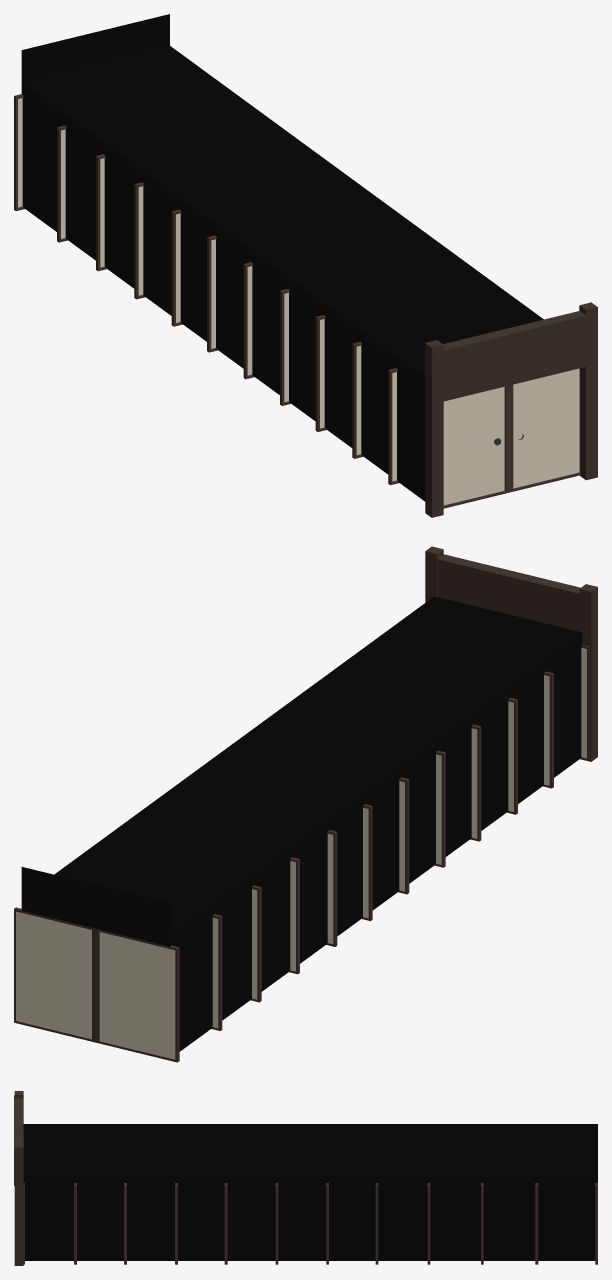
The model's file is room_transition_2.glb.
3 renders of one model, top to bottom at view 1: azimuth 30°, elevation 25°; view 2: azimuth 150°, elevation 25°; view 3: azimuth 270°, elevation 25°, orthographic. The views are drawn at different scales.
Parts seen in each view (by area): view 1: TransitionInner.001, AnimDoors1.001, Cube.006, Cube.004, Cube.005, AnimDoors6.001, AnimDoors4.001, AnimDoors3.001, AnimDoors8.001, AnimDoors9.001, AnimDoors12.001, AnimDoors2.001 (+4 smaller); view 2: TransitionInner.001, AnimDoors12.001, Cube.006, Cube.004, AnimDoors6.001, AnimDoors8.001, AnimDoors4.001, AnimDoors11.001, AnimDoors5.001, AnimDoors9.001, AnimDoors10.001, AnimDoors2.001 (+4 smaller); view 3: TransitionInner.001, Cube.005, Cube.006, AnimDoors5.001, AnimDoors6.001, AnimDoors8.001, AnimDoors9.001, AnimDoors11.001.
Boxes of the visible parts, x1,y1,x2,y2 form: TransitionInner.001: (21,14,543,501); AnimDoors1.001: (443,368,580,508); Cube.006: (433,311,596,403); Cube.004: (425,340,443,517); Cube.005: (579,302,597,480); AnimDoors6.001: (243,262,254,379); AnimDoors4.001: (315,315,326,431); AnimDoors3.001: (352,342,363,458); AnimDoors8.001: (171,209,182,326); AnimDoors9.001: (134,182,145,299); AnimDoors12.001: (14,94,24,210); AnimDoors2.001: (388,368,398,485); TransitionInner.001: (21,596,582,1051); AnimDoors12.001: (14,907,179,1062); Cube.006: (437,554,580,631); Cube.004: (579,584,597,761); AnimDoors6.001: (398,777,409,894); AnimDoors8.001: (326,830,337,946); AnimDoors4.001: (470,724,481,841); AnimDoors11.001: (211,914,222,1030); AnimDoors5.001: (434,750,445,867); AnimDoors9.001: (289,857,299,974); AnimDoors10.001: (250,885,261,1002); AnimDoors2.001: (543,671,553,788); TransitionInner.001: (23,1124,597,1260); Cube.005: (14,1143,23,1265); Cube.006: (14,1095,23,1185); AnimDoors5.001: (224,1183,227,1264); AnimDoors6.001: (275,1183,278,1264); AnimDoors8.001: (375,1183,378,1264); AnimDoors9.001: (427,1183,430,1264); AnimDoors11.001: (535,1183,538,1264).
Size of the model in its own units: 5.31 by 5.19 by 23.2.
